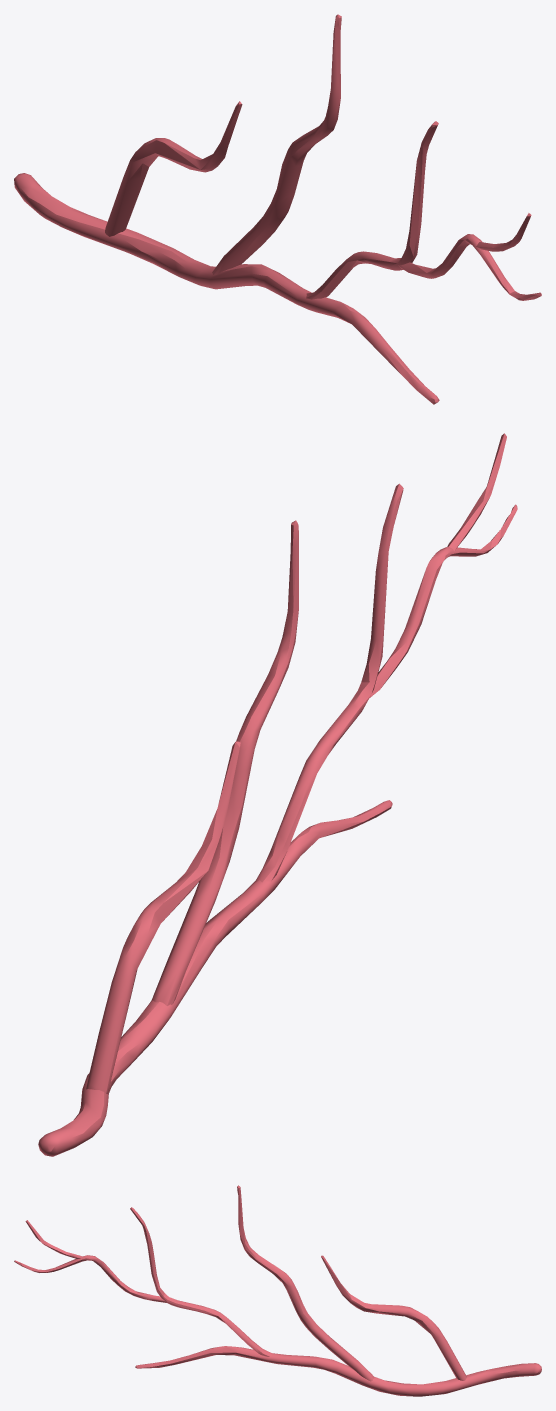
The model's file is fma51307_cx112.glb.
The picture shows the model from 3 angles, top to bottom: view 1: azimuth 30°, elevation 25°; view 2: azimuth 150°, elevation 25°; view 3: azimuth 270°, elevation 25°; orthographic projection. The views are drawn at different scales.
Visible parts, largest first — view 1: FMA51307_CX112; view 2: FMA51307_CX112; view 3: FMA51307_CX112.
Boxes of the visible parts, left/top/right/bottom form: FMA51307_CX112: left=14, top=14, right=541, bottom=404; FMA51307_CX112: left=38, top=433, right=517, bottom=1156; FMA51307_CX112: left=14, top=1185, right=541, bottom=1396.
Bounding box in the file's own units: 0.00532 × 0.0262 × 0.0596.
